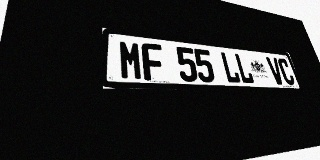5: (176, 46, 199, 82), (193, 48, 216, 83)
C: (277, 58, 296, 85)
F: (141, 42, 165, 81)
L: (219, 51, 241, 83), (234, 53, 255, 84)
M: (118, 40, 144, 80)
V: (266, 57, 286, 85)
